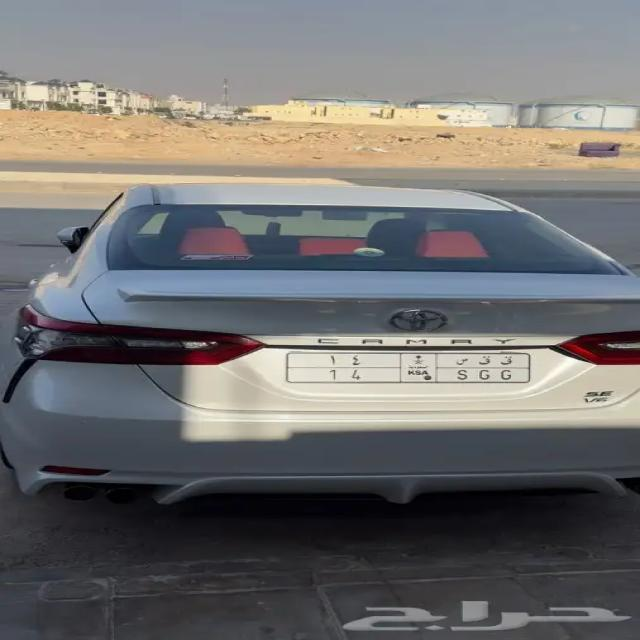license_plate: (286, 366, 533, 383)
